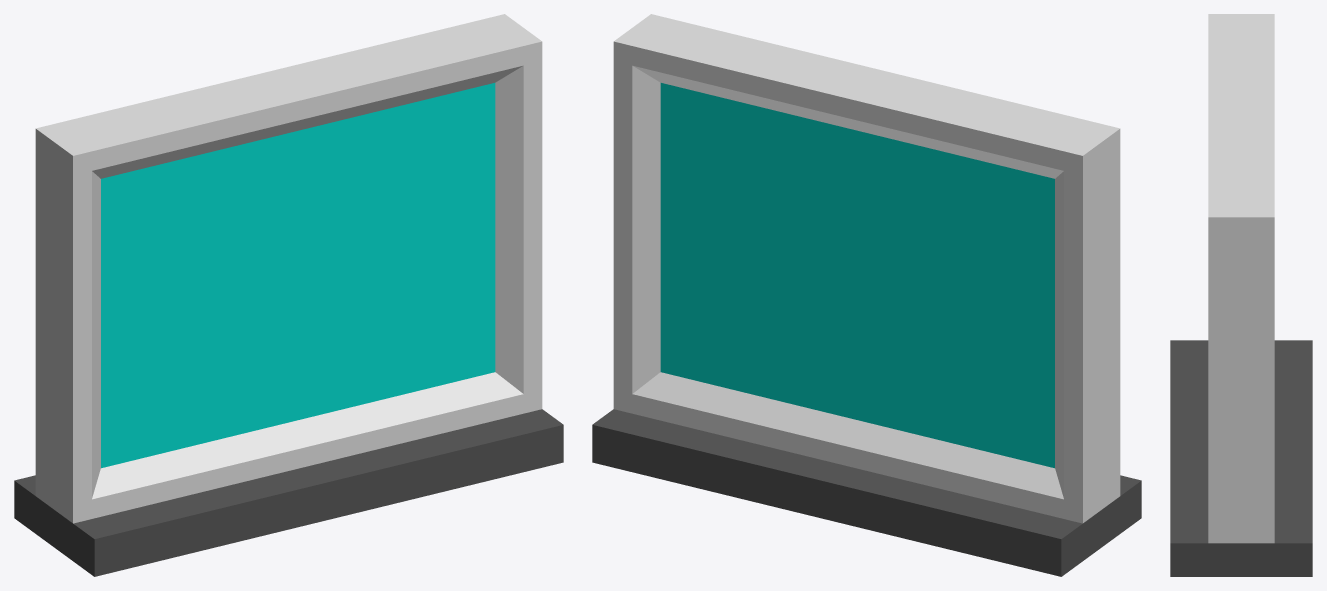
File: bigScreen.fbx
The picture shows the model from 3 angles, left to right: view 1: azimuth 30°, elevation 25°; view 2: azimuth 150°, elevation 25°; view 3: azimuth 270°, elevation 25°; orthographic projection. The views are drawn at different scales.
Visible parts, largest first — view 1: bigScreen; view 2: bigScreen; view 3: bigScreen.
Part boxes in pixels (bbox=[...]): bigScreen: bbox=[14, 14, 563, 576]; bigScreen: bbox=[592, 14, 1141, 576]; bigScreen: bbox=[1170, 14, 1312, 576].
Bounding box in the file's own units: 3.77 × 3.11 × 1.12.
